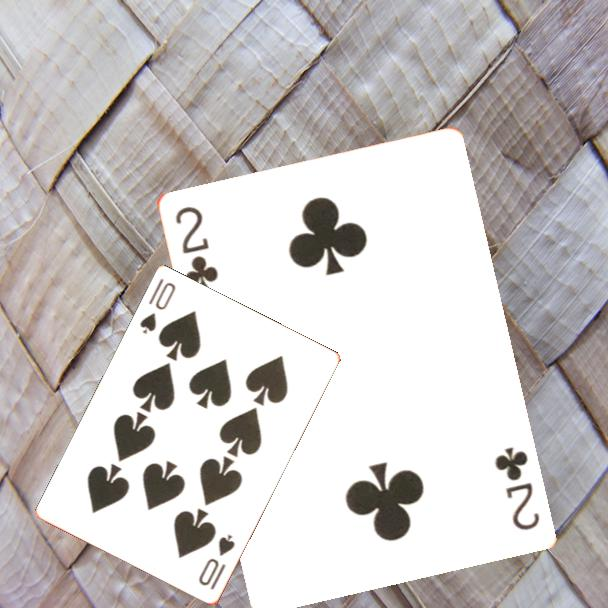c02: (490, 443, 542, 533), (171, 202, 221, 293)
s10: (195, 531, 238, 593), (137, 275, 179, 338)
